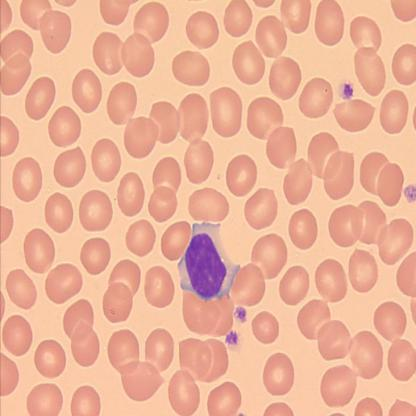Atypical lymphocyte: (180, 224, 238, 299)
